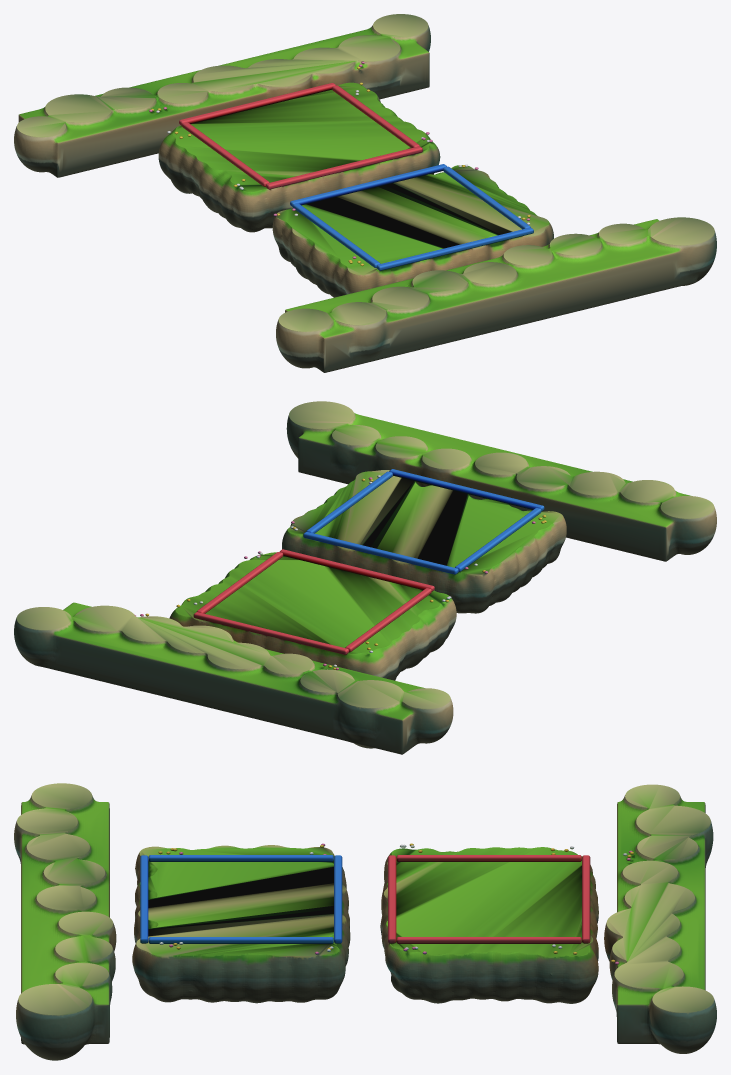
Rendered from pradera.glb.
The picture shows the model from 3 angles, top to bottom: view 1: azimuth 30°, elevation 25°; view 2: azimuth 150°, elevation 25°; view 3: azimuth 270°, elevation 25°; orthographic projection. The views are drawn at different scales.
Parts seen in each view (by area): view 1: arena; view 2: arena; view 3: arena.
Boxes of the visible parts, x1,y1,x2,y2 form: arena: [14, 14, 716, 372]; arena: [14, 401, 716, 754]; arena: [14, 783, 716, 1060].
Bounding box in the file's own units: 14.97 × 1.81 × 19.
